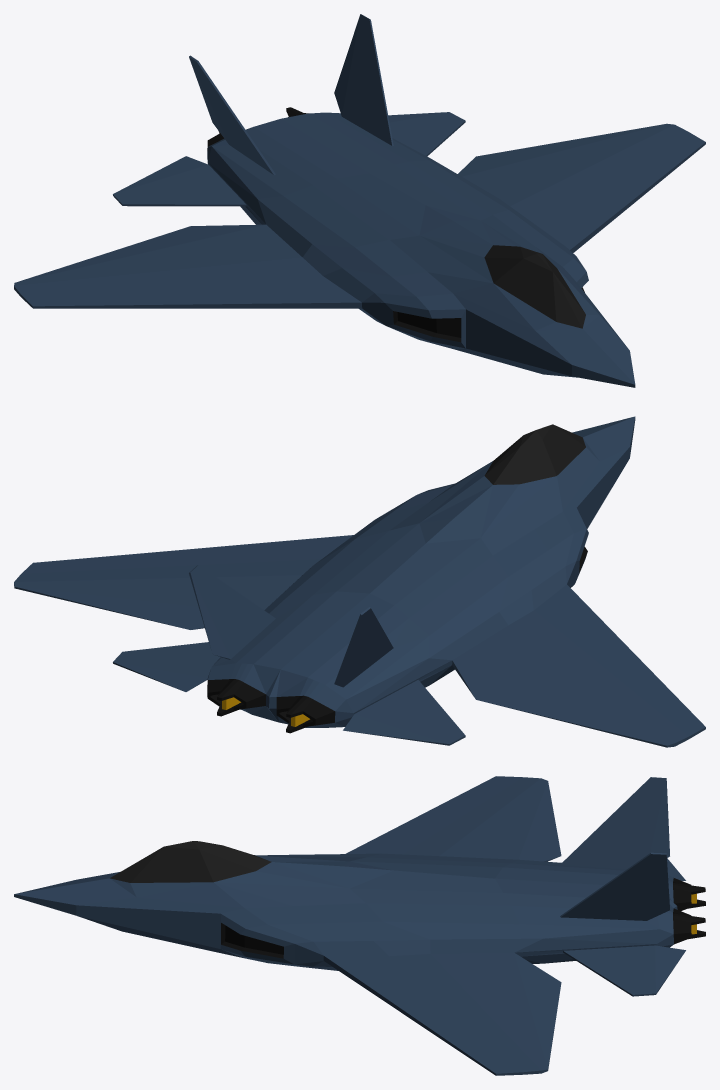
The model's file is lowpolyjet2.obj.
3 views of the same model, one above another, from view 1: azimuth 30°, elevation 25°; view 2: azimuth 150°, elevation 25°; view 3: azimuth 270°, elevation 25° (orthographic). The views are drawn at different scales.
Parts seen in each view (by area): view 1: Frame, Wings.Front; view 2: Frame, Wings.Front, Thrusters; view 3: Frame, Wings.Front, Thrusters.
Part boxes in pixels (x1,y1,x2,y2): Frame: (113,14,635,387); Wings.Front: (14,123,705,308); Frame: (113,416,635,745); Wings.Front: (14,535,705,747); Thrusters: (207,679,335,733); Frame: (14,777,685,996); Wings.Front: (323,776,561,1075); Thrusters: (673,878,705,944).
Bounding box in the file's own units: 7.56 × 1.67 × 7.42.
